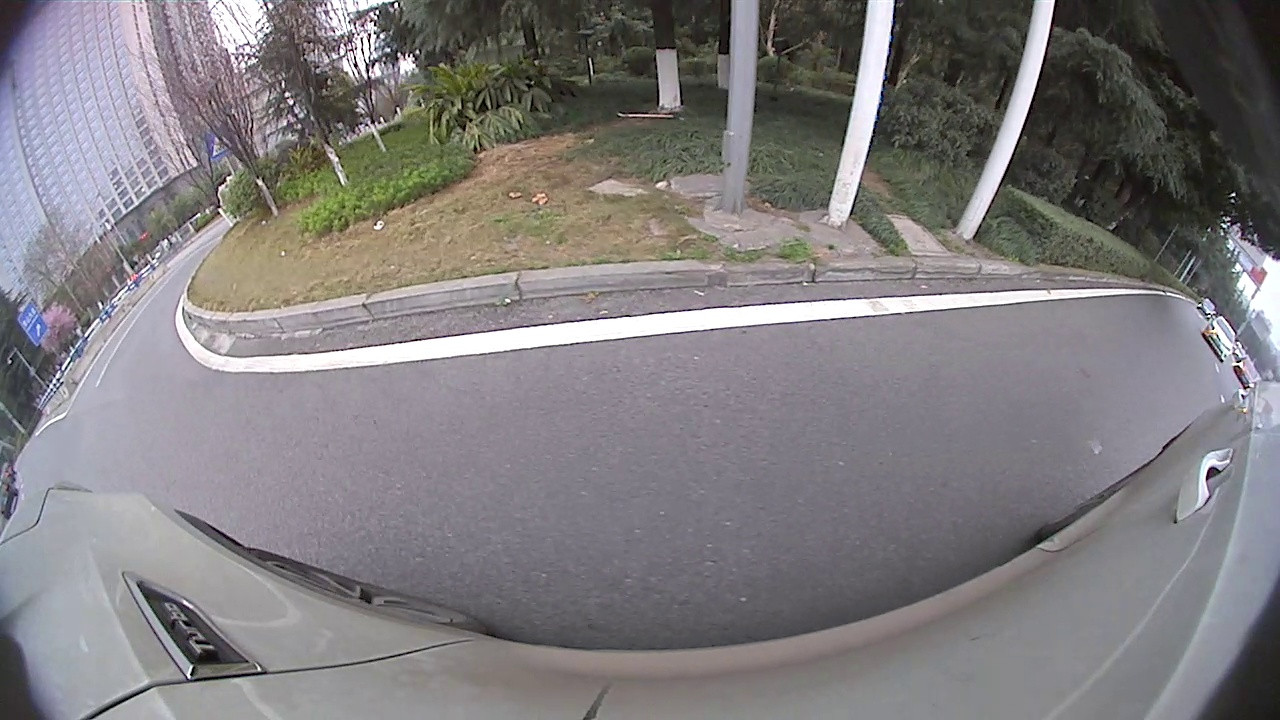car: (1202, 315, 1238, 363)
